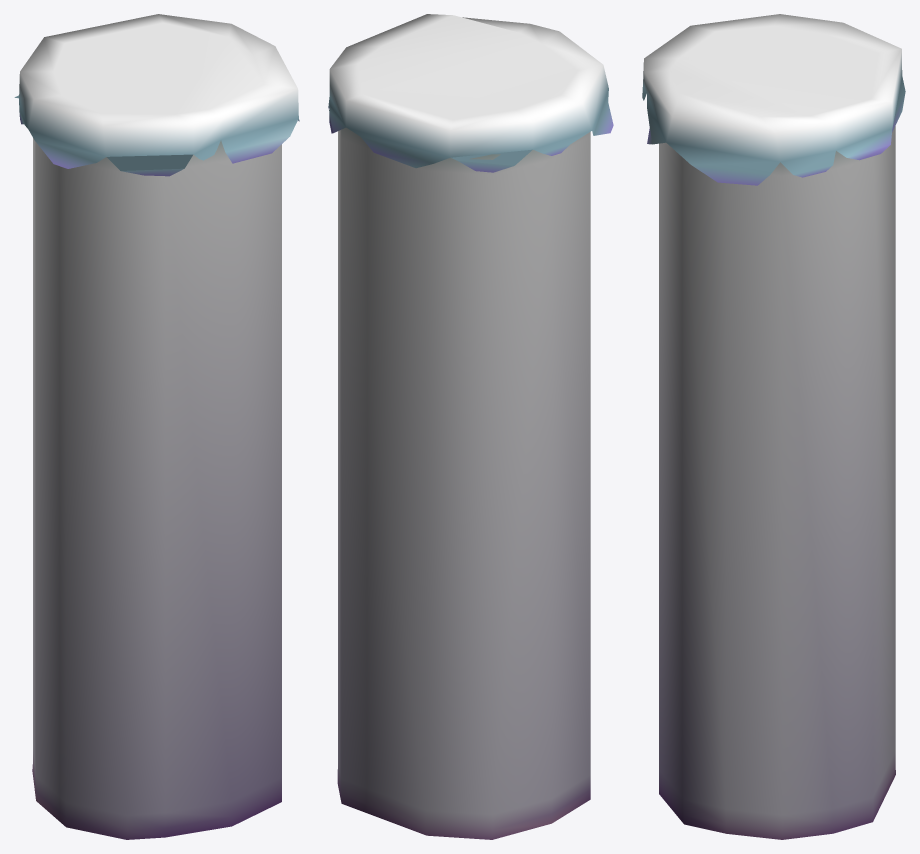
File: Block_03_H2_grass.fbx
3 views of the same model, side by side, from view 1: azimuth 30°, elevation 25°; view 2: azimuth 150°, elevation 25°; view 3: azimuth 270°, elevation 25° (orthographic).
Parts seen in each view (by area): view 1: Rock-Base-col.007, Rock-Base-col.008; view 2: Rock-Base-col.007, Rock-Base-col.008; view 3: Rock-Base-col.007, Rock-Base-col.008.
Part boxes in pixels (box(x1,y1,x2,y2)): Rock-Base-col.007: box(32, 138, 281, 839); Rock-Base-col.008: box(14, 14, 299, 176); Rock-Base-col.007: box(337, 127, 590, 839); Rock-Base-col.008: box(328, 14, 613, 172); Rock-Base-col.007: box(659, 126, 895, 839); Rock-Base-col.008: box(642, 14, 905, 185).
Bounding box in the file's own units: 226 × 626 × 207.
